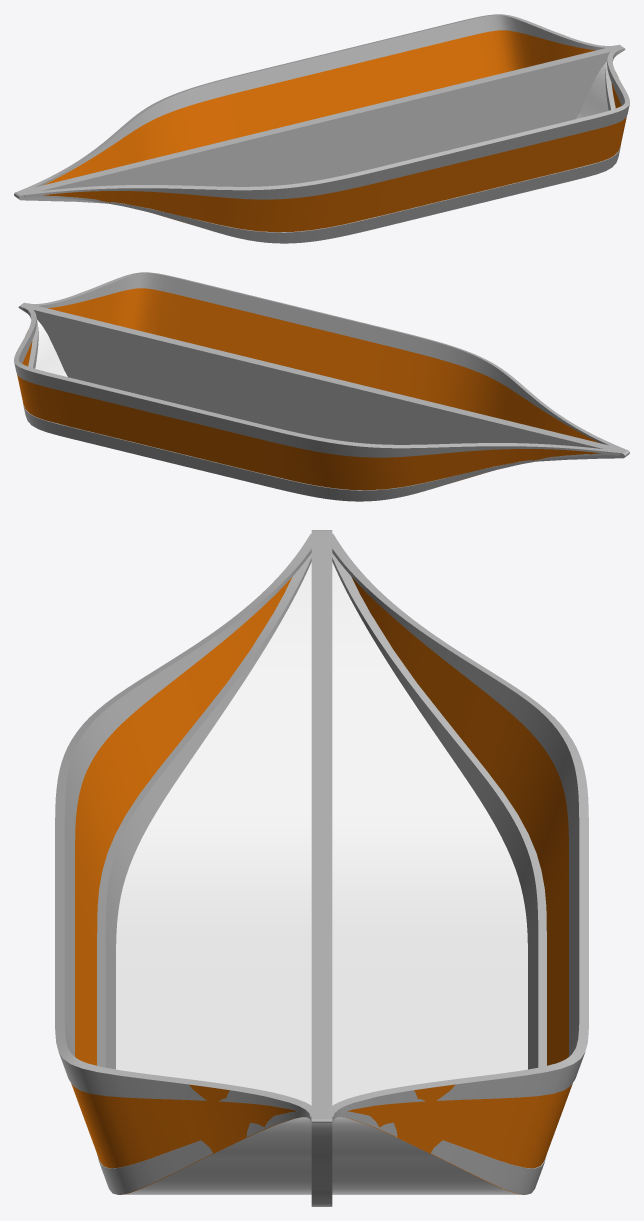
File: model_escort.glb
3 views of the same model, one above another, from view 1: azimuth 30°, elevation 25°; view 2: azimuth 150°, elevation 25°; view 3: azimuth 270°, elevation 25° (orthographic). The views are drawn at different scales.
Visible parts, largest first — view 1: 图层 01(D3873E8E-3966-42C1-84D5-DD90C66DBDD9), 图层 01(667DF615-E7AD-423C-86B6-966888FA5B0E), 图层 01(F347DF94-36D3-4DC9-AFAE-747E6F59514F), 图层 01(7144F502-EFEB-467D-BB1B-ABDED4BF61B4), 图层 01(6F159D1F-6A7C-4E90-8F36-D476394653F3), 图层 01(97B24D01-12B2-4EB5-9424-D5DA8E9B43FF), 图层 01(52D34920-1D22-4D4E-8126-474843932210); view 2: 图层 01(D3873E8E-3966-42C1-84D5-DD90C66DBDD9), 图层 01(F347DF94-36D3-4DC9-AFAE-747E6F59514F), 图层 01(667DF615-E7AD-423C-86B6-966888FA5B0E), 图层 01(6F159D1F-6A7C-4E90-8F36-D476394653F3), 图层 01(7144F502-EFEB-467D-BB1B-ABDED4BF61B4), 图层 01(8E76D154-5AD6-4EE0-8C32-96E7A0583820), 图层 01(52D34920-1D22-4D4E-8126-474843932210); view 3: 图层 01(52D34920-1D22-4D4E-8126-474843932210), 图层 01(667DF615-E7AD-423C-86B6-966888FA5B0E), 图层 01(F347DF94-36D3-4DC9-AFAE-747E6F59514F), 图层 01(6F159D1F-6A7C-4E90-8F36-D476394653F3), 图层 01(7144F502-EFEB-467D-BB1B-ABDED4BF61B4), 图层 01(D3873E8E-3966-42C1-84D5-DD90C66DBDD9), 图层 01(97B24D01-12B2-4EB5-9424-D5DA8E9B43FF), 图层 01(8E76D154-5AD6-4EE0-8C32-96E7A0583820).
Boxes of the visible parts, x1=… form: 图层 01(D3873E8E-3966-42C1-84D5-DD90C66DBDD9): x1=14, y1=44, x2=625, y2=203; 图层 01(667DF615-E7AD-423C-86B6-966888FA5B0E): x1=44, y1=30, x2=595, y2=184; 图层 01(F347DF94-36D3-4DC9-AFAE-747E6F59514F): x1=43, y1=83, x2=626, y2=232; 图层 01(7144F502-EFEB-467D-BB1B-ABDED4BF61B4): x1=19, y1=14, x2=617, y2=191; 图层 01(6F159D1F-6A7C-4E90-8F36-D476394653F3): x1=25, y1=48, x2=629, y2=199; 图层 01(97B24D01-12B2-4EB5-9424-D5DA8E9B43FF): x1=24, y1=49, x2=622, y2=243; 图层 01(52D34920-1D22-4D4E-8126-474843932210): x1=576, y1=62, x2=608, y2=118; 图层 01(D3873E8E-3966-42C1-84D5-DD90C66DBDD9): x1=18, y1=302, x2=629, y2=461; 图层 01(F347DF94-36D3-4DC9-AFAE-747E6F59514F): x1=48, y1=288, x2=599, y2=442; 图层 01(667DF615-E7AD-423C-86B6-966888FA5B0E): x1=17, y1=341, x2=600, y2=490; 图层 01(6F159D1F-6A7C-4E90-8F36-D476394653F3): x1=26, y1=272, x2=624, y2=449; 图层 01(7144F502-EFEB-467D-BB1B-ABDED4BF61B4): x1=14, y1=306, x2=619, y2=457; 图层 01(8E76D154-5AD6-4EE0-8C32-96E7A0583820): x1=23, y1=311, x2=619, y2=501; 图层 01(52D34920-1D22-4D4E-8126-474843932210): x1=35, y1=320, x2=67, y2=376; 图层 01(52D34920-1D22-4D4E-8126-474843932210): x1=116, y1=562, x2=527, y2=1194; 图层 01(667DF615-E7AD-423C-86B6-966888FA5B0E): x1=343, y1=577, x2=572, y2=1194; 图层 01(F347DF94-36D3-4DC9-AFAE-747E6F59514F): x1=71, y1=577, x2=300, y2=1194; 图层 01(6F159D1F-6A7C-4E90-8F36-D476394653F3): x1=55, y1=533, x2=320, y2=1121; 图层 01(7144F502-EFEB-467D-BB1B-ABDED4BF61B4): x1=323, y1=533, x2=588, y2=1121; 图层 01(D3873E8E-3966-42C1-84D5-DD90C66DBDD9): x1=311, y1=530, x2=332, y2=1206; 图层 01(97B24D01-12B2-4EB5-9424-D5DA8E9B43FF): x1=97, y1=553, x2=311, y2=1194; 图层 01(8E76D154-5AD6-4EE0-8C32-96E7A0583820): x1=332, y1=553, x2=546, y2=1194.
Bounding box in the file's own units: 0.1369 × 0.0153 × 0.0522.
